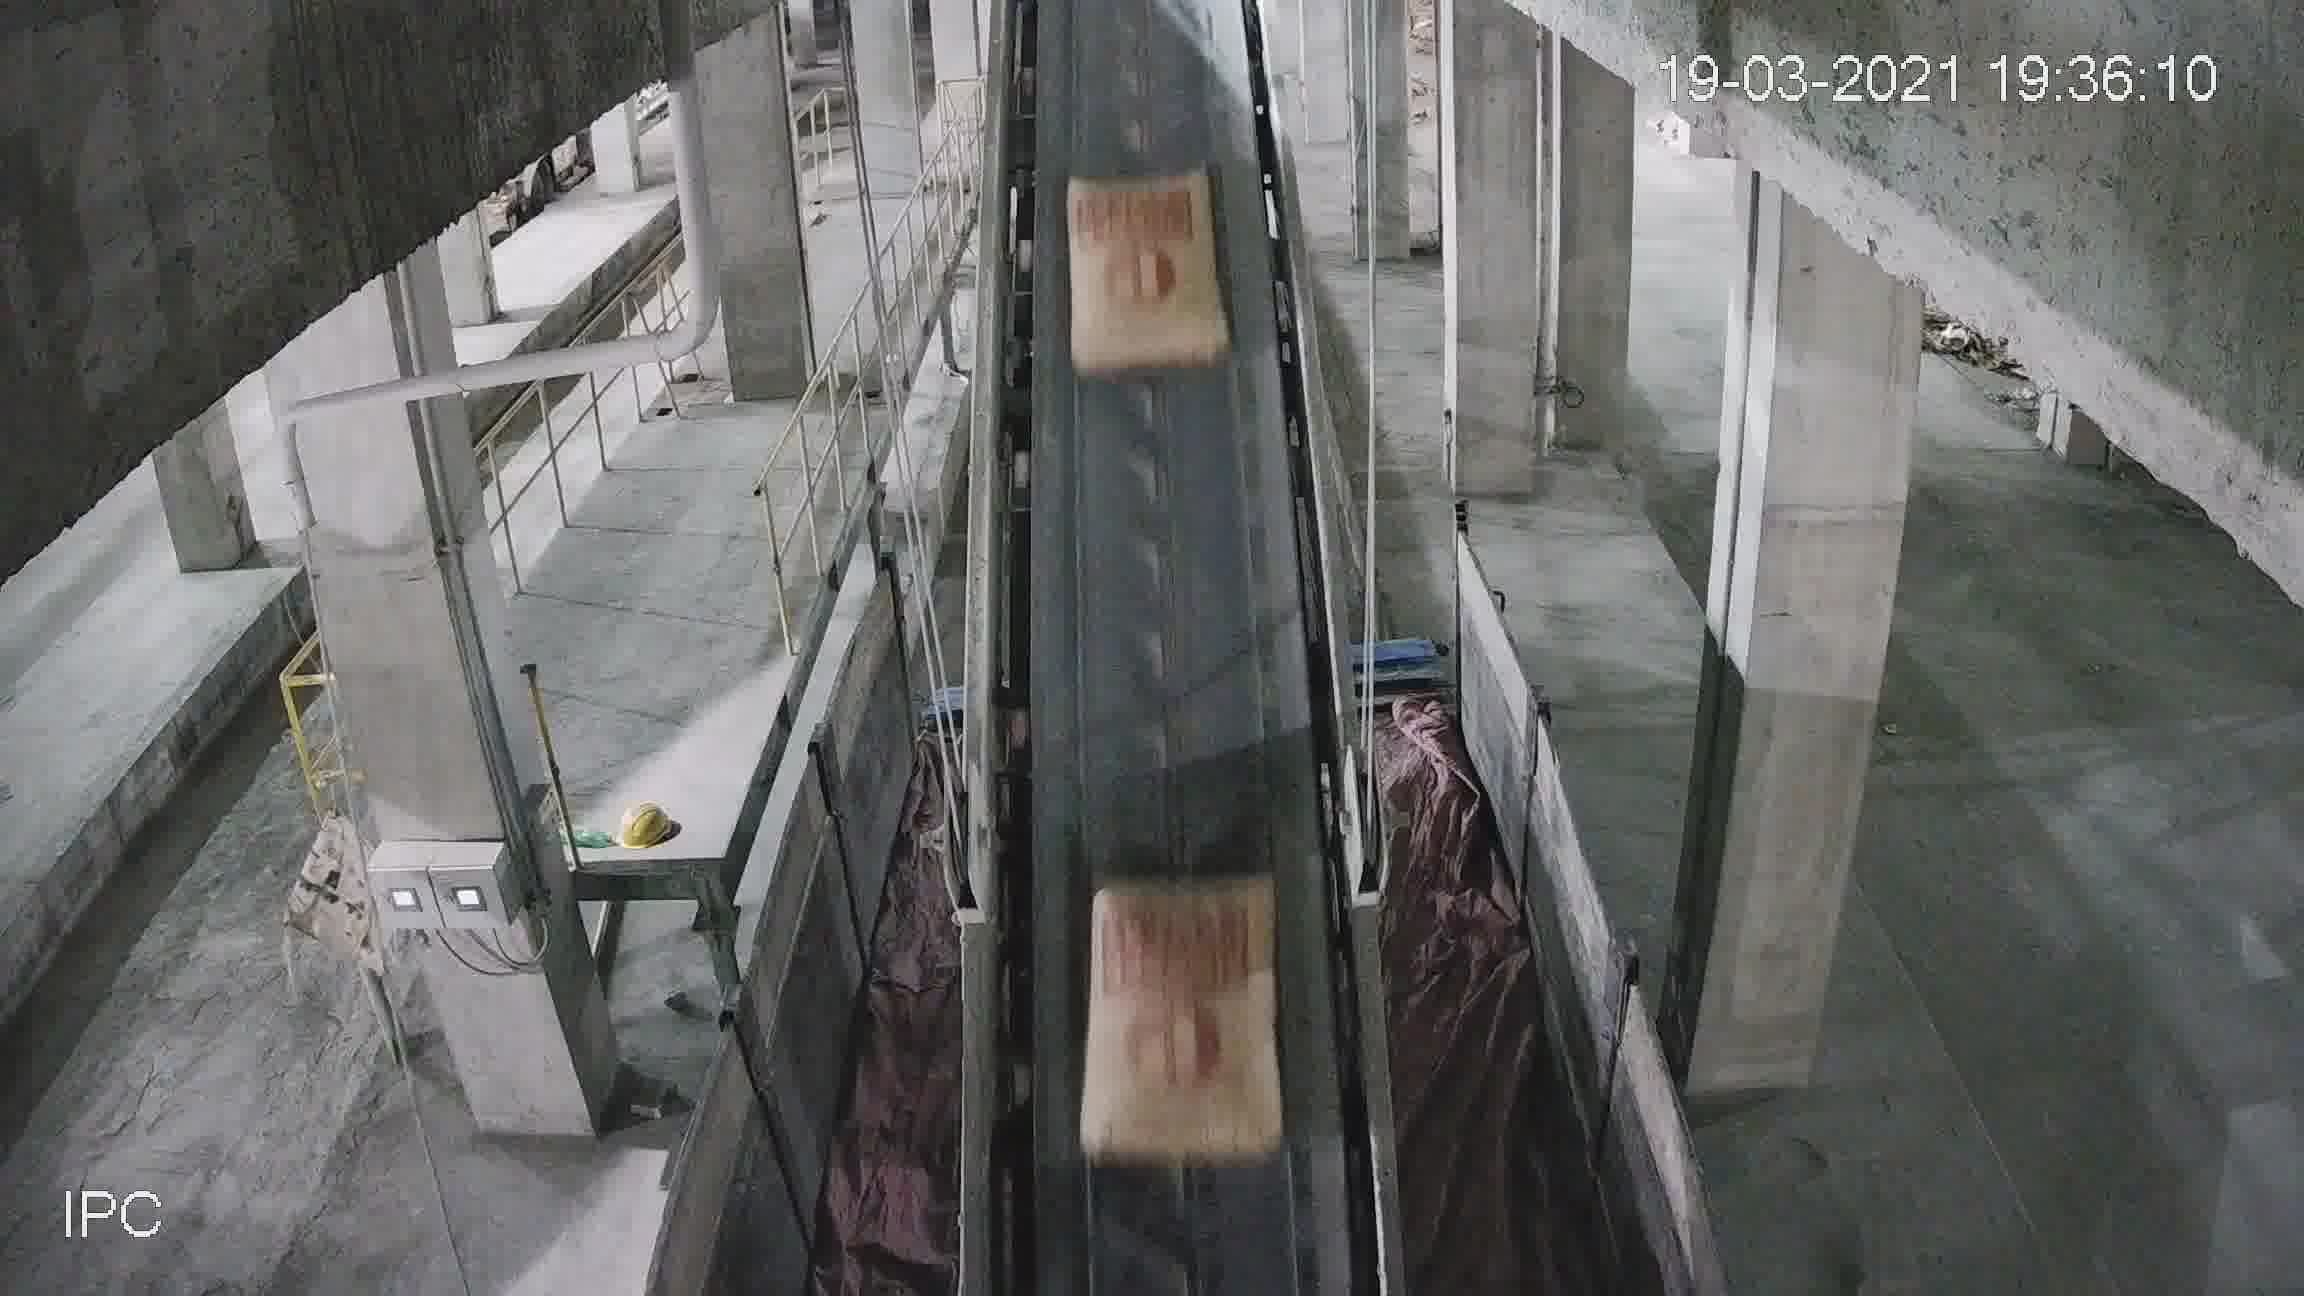bag: (1090, 880, 1285, 1158), (1070, 165, 1226, 369)
belt: (965, 78, 1386, 1296)
